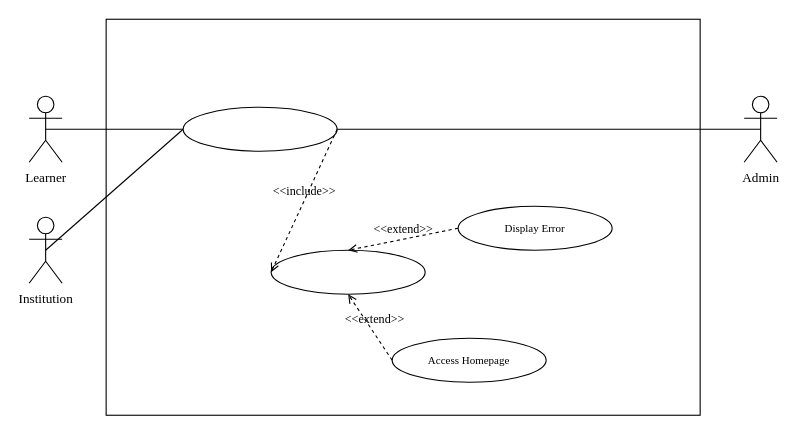
Some shapes in this 798 by 435 pixel diagram are drawn without their labels. The shapes that lost their labels are listed below. From the top down, each one's box as (x1, y1, x2, y2) in pixels, then its label:
(182, 106, 337, 151): Load Login Form
(270, 249, 425, 294): Validates Credentials
